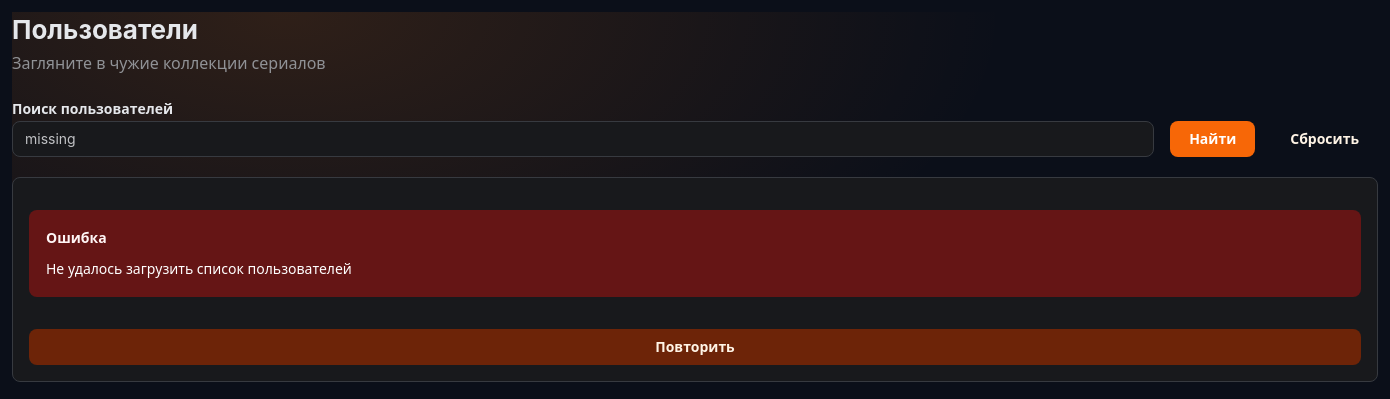
Test: shows an empty search result and allows retry after a network error
expect the text "Не удалось загрузить список пользователей" is shown: met, box [46,259,352,278]
Click the button "Повторить": (695, 347) [29,329,1361,365]
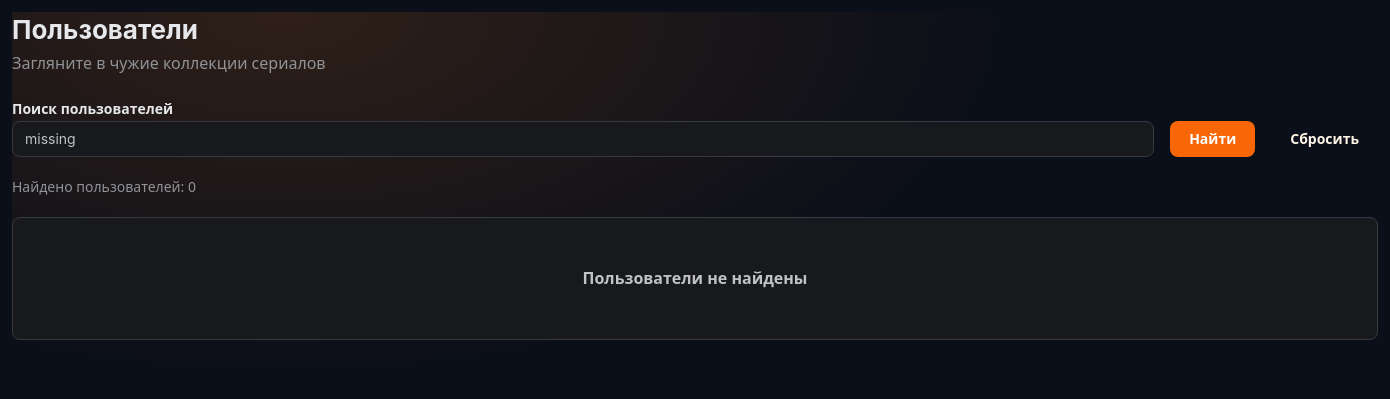
expect the text "Пользователи не найдены" is shown: met, box [582,266,807,291]
